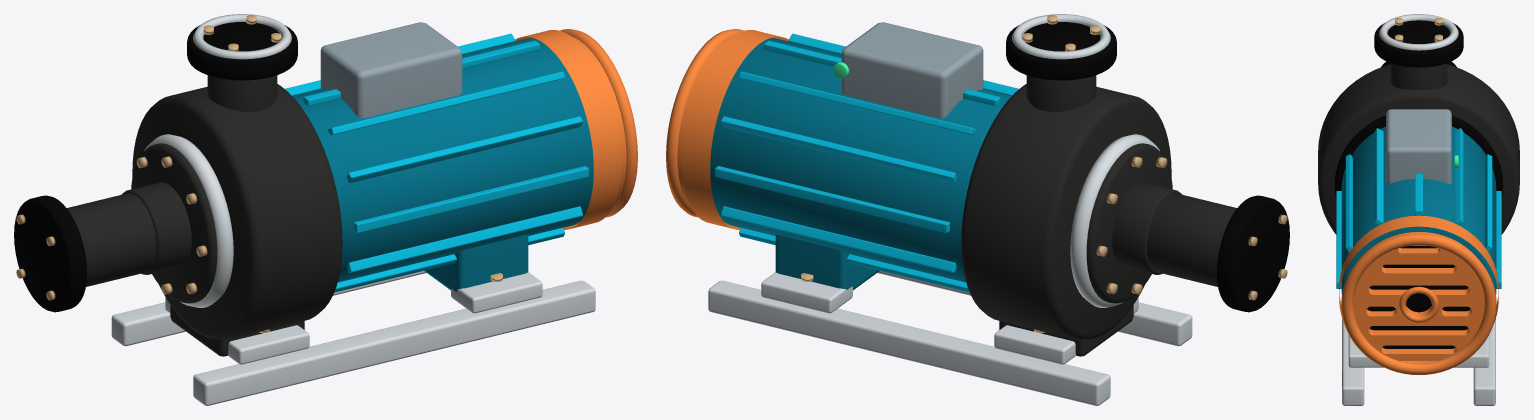
Rendered from pump.glb.
3 views of the same model, side by side, from view 1: azimuth 30°, elevation 25°; view 2: azimuth 150°, elevation 25°; view 3: azimuth 270°, elevation 25° (orthographic). The views are drawn at different scales.
Visible parts, largest first — view 1: ribbed electric motor barrel, cast volute main body, pump skid rail -0.28, motor terminal box, front suction flange, motor rear fan cover side wall, front axial suction stub, front circular inspection plate, top discharge flange, front volute raised rim, rear motor foot, front suction throat (+15 smaller); view 2: ribbed electric motor barrel, cast volute main body, pump skid rail 0.28, motor terminal box, front suction flange, motor rear fan cover side wall, front axial suction stub, front circular inspection plate, top discharge flange, front volute raised rim, front suction throat, rear motor foot (+15 smaller); view 3: cast volute main body, boolean cut motor rear fan grille, ribbed electric motor barrel, motor rear raised outer grille rim, motor terminal box, top discharge flange, recessed dark fan cavity, motor rear fan cover side wall, motor front dark coupling ring, top discharge neck, pump skid rail -0.28, pump skid rail 0.28 (+11 smaller).
Part boxes in pixels (x1,y1,x2,y2): ribbed electric motor barrel: (292,38,593,282); cast volute main body: (132,84,342,339); pump skid rail -0.28: (193,280,595,405); motor terminal box: (320,22,462,118); front suction flange: (14,195,87,312); motor rear fan cover side wall: (515,30,621,230); front axial suction stub: (67,193,156,286); front circular inspection plate: (131,143,217,303); top discharge flange: (187,22,297,80); front volute raised rim: (144,134,233,307); rear motor foot: (424,235,528,292); front suction throat: (122,182,191,274); ribbed electric motor barrel: (710,38,1011,282); cast volute main body: (961,84,1171,339); pump skid rail 0.28: (708,280,1110,405); motor terminal box: (841,22,983,118); front suction flange: (1216,195,1289,312); motor rear fan cover side wall: (682,30,788,230); front axial suction stub: (1147,193,1236,286); front circular inspection plate: (1086,143,1172,303); top discharge flange: (1006,22,1116,80); front volute raised rim: (1070,134,1159,307); front suction throat: (1112,182,1181,274); rear motor foot: (775,235,879,290); cast volute main body: (1318,64,1519,234); boolean cut motor rear fan grille: (1353,232,1484,363); ribbed electric motor barrel: (1341,126,1496,294); motor rear raised outer grille rim: (1341,234,1496,374); motor terminal box: (1386,109,1451,183); top discharge flange: (1374,20,1463,67); recessed dark fan cavity: (1367,246,1470,348); motor rear fan cover side wall: (1339,215,1498,363); motor front dark coupling ring: (1334,109,1503,198); top discharge neck: (1390,63,1447,89); pump skid rail -0.28: (1342,318,1364,405); pump skid rail 0.28: (1473,318,1495,405).
Bounding box in the file's own units: 2.21 × 1.22 × 0.86.
